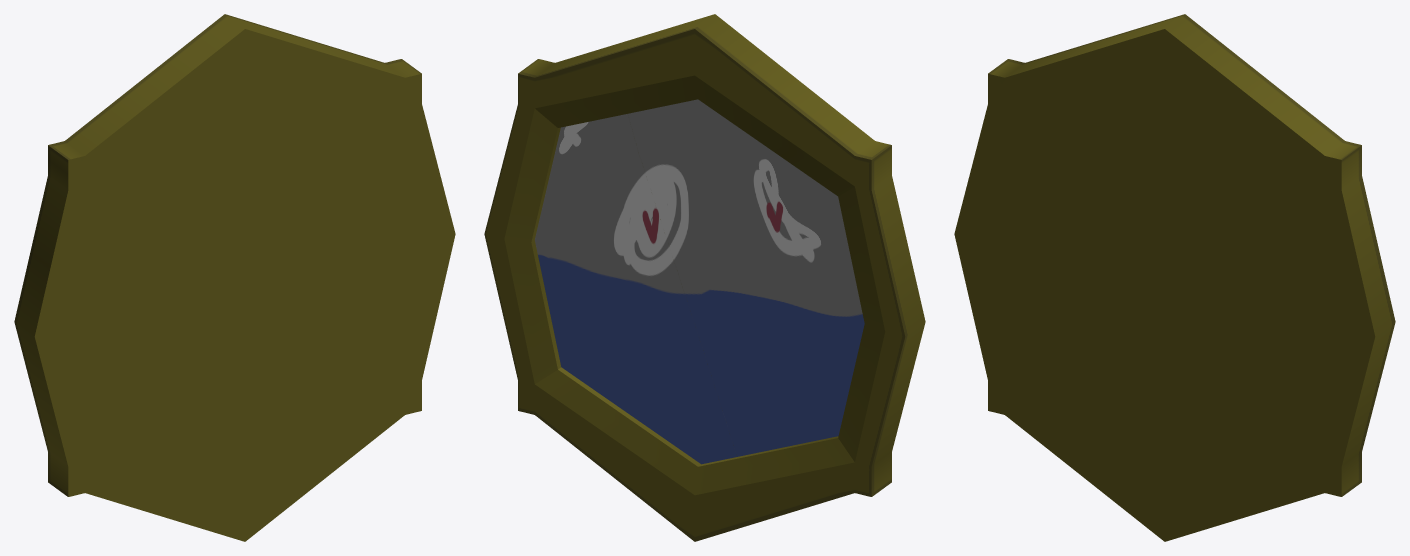
Rendered from BgMD_painting_frame06 (3).fbx.
3 renders of one model, left to right at view 1: azimuth 30°, elevation 25°; view 2: azimuth 150°, elevation 25°; view 3: azimuth 330°, elevation 25°, orthographic.
Visible parts, largest first — view 1: Bg_painting_frame06; view 2: Bg_painting_frame06; view 3: Bg_painting_frame06.
Boxes of the visible parts, x1=… form: Bg_painting_frame06: x1=14, y1=14, x2=455, y2=541; Bg_painting_frame06: x1=484, y1=14, x2=925, y2=541; Bg_painting_frame06: x1=954, y1=14, x2=1395, y2=541.
Size of the model in its own units: 183 by 213 by 15.31.
1 material, 1 textured.
